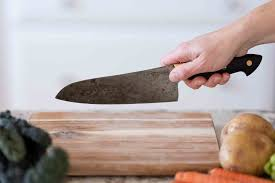knife: (53, 45, 265, 106)
